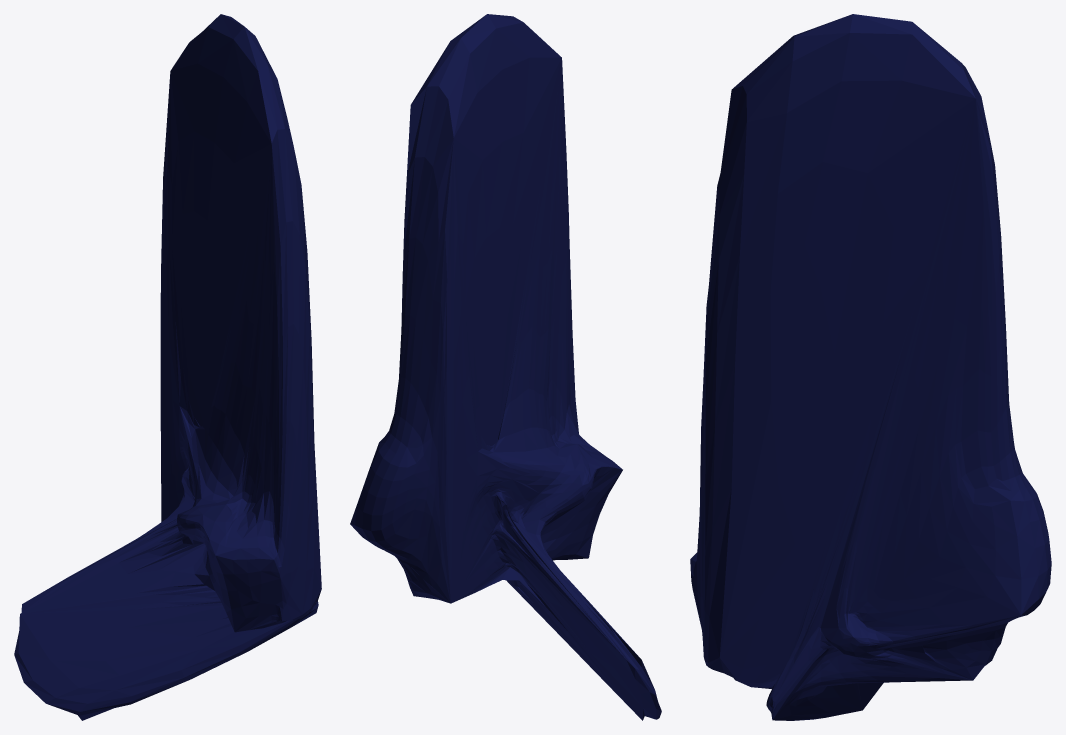
3 renders of one model, left to right at view 1: azimuth 30°, elevation 25°; view 2: azimuth 150°, elevation 25°; view 3: azimuth 270°, elevation 25°, orthographic. The views are drawn at different scales.
Parts seen in each view (by area): view 1: 616_Cube.2477; view 2: 616_Cube.2477; view 3: 616_Cube.2477.
Part boxes in pixels (bbox=[...]): 616_Cube.2477: bbox=[14, 14, 321, 720]; 616_Cube.2477: bbox=[350, 14, 661, 720]; 616_Cube.2477: bbox=[690, 14, 1051, 720].
Bounding box in the file's own units: 5.78 × 13.77 × 5.72.
